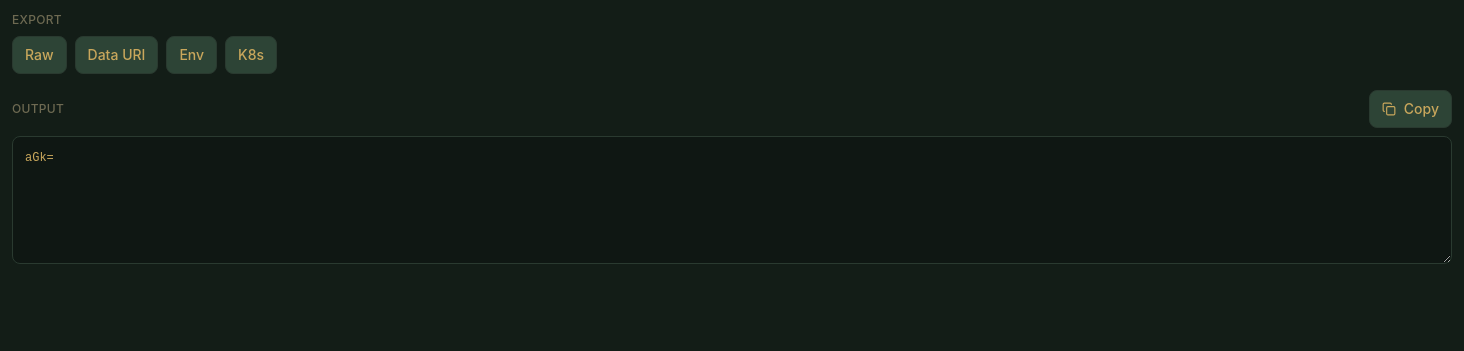
Test case: ExportBar › edits the secret name and reflects it in the YAML
The width and height of the screenshot is (1464, 351).
Click the button "K8s". click: (251, 55)
box: [225,36,277,74]
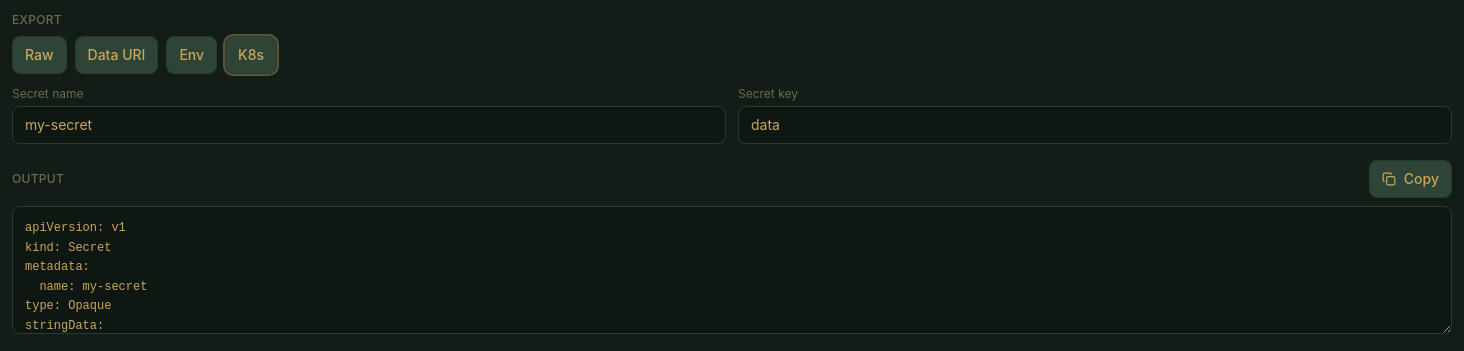
Replace the text in the field showing "my-secret" with "renamed". click: (369, 125)
box: [12,106,726,144]
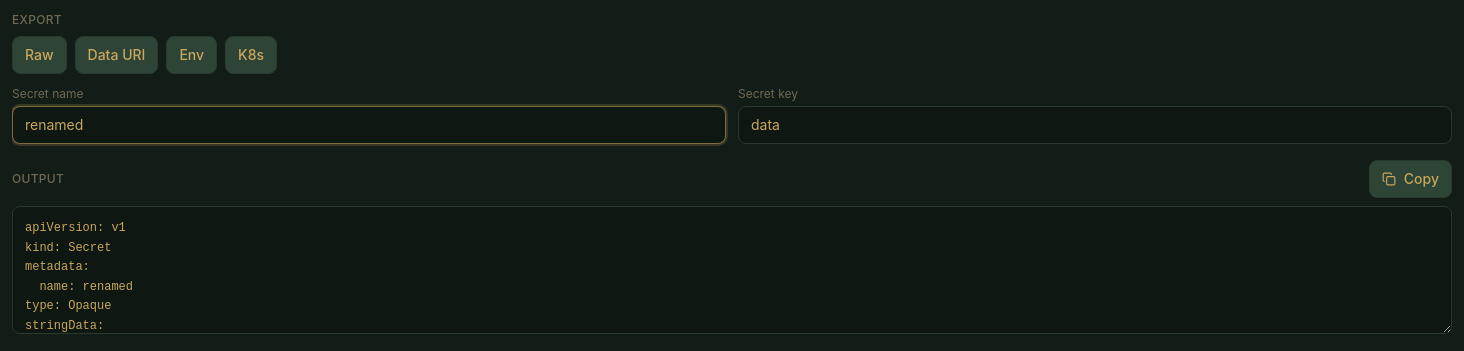
Expected: the text box showing "name: renamed" is shown, [12,206,1452,334]
